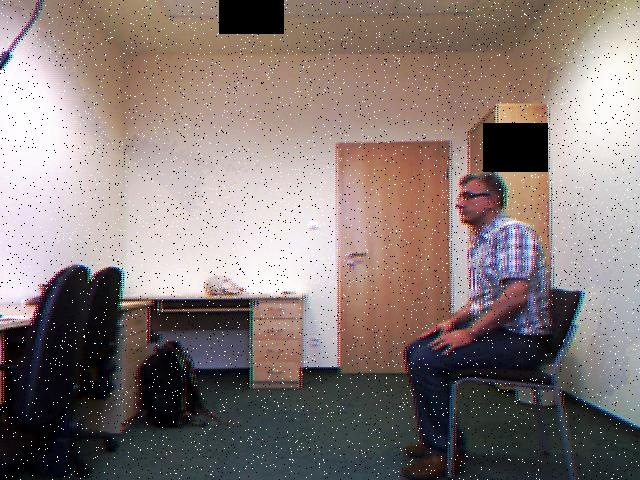sitting: (399, 162, 565, 480)
